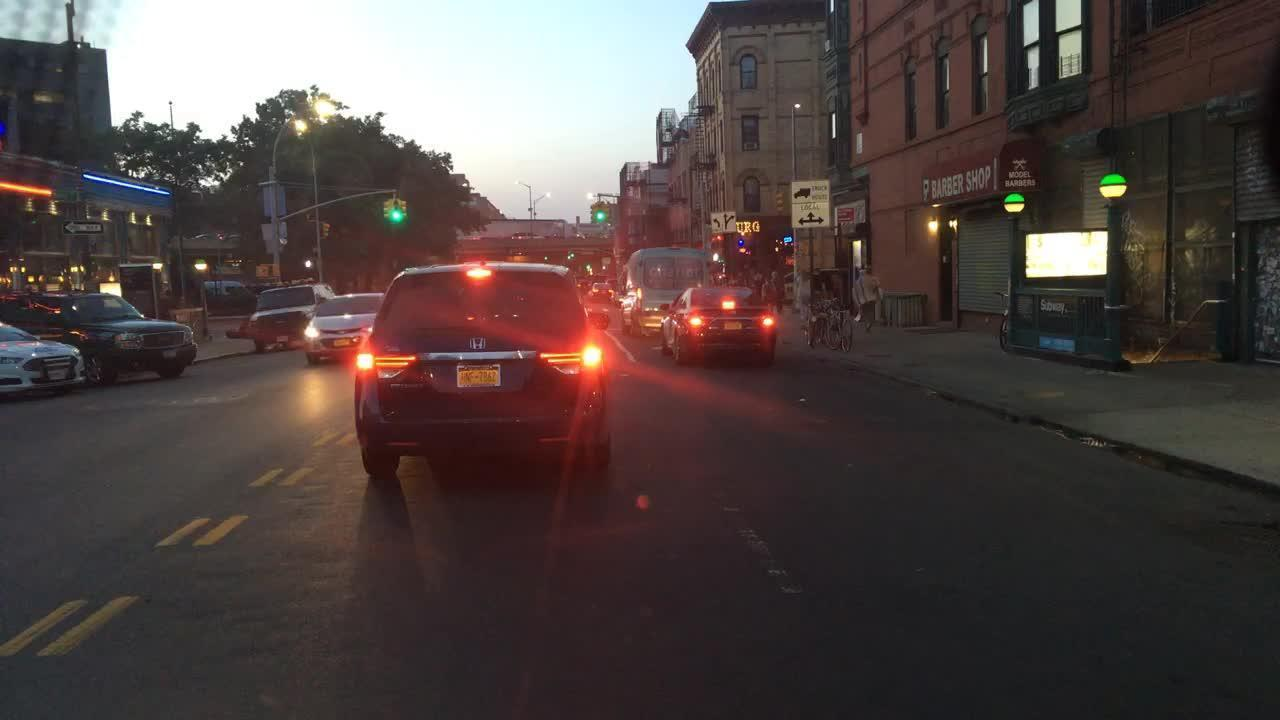Honda: (462, 331, 494, 357)
